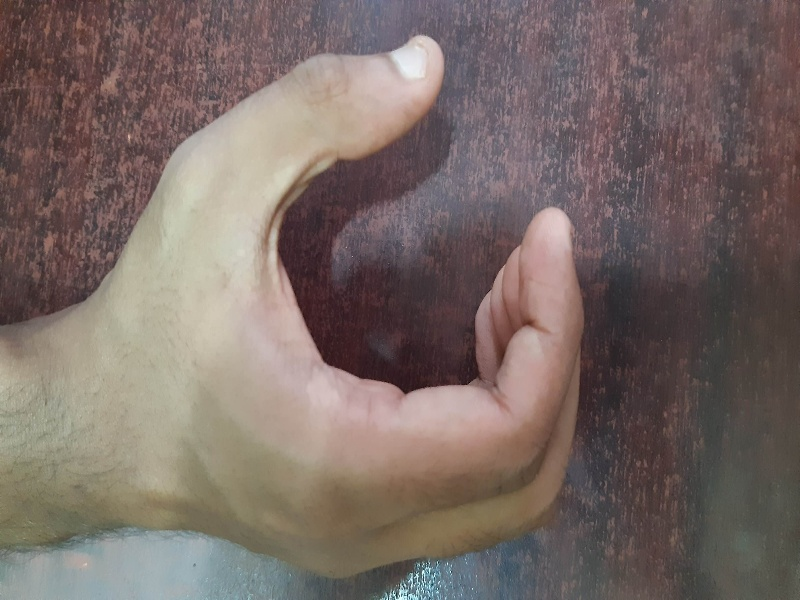one: (106, 18, 624, 593)
